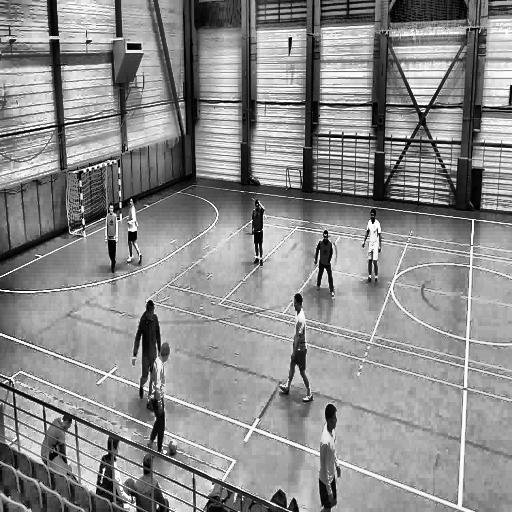ball: (167, 436, 179, 457)
player: (280, 293, 314, 405), (132, 299, 163, 412), (146, 340, 170, 456), (318, 402, 342, 512), (361, 208, 382, 288), (314, 229, 336, 298), (250, 197, 266, 267), (126, 196, 142, 265), (105, 202, 118, 276)
